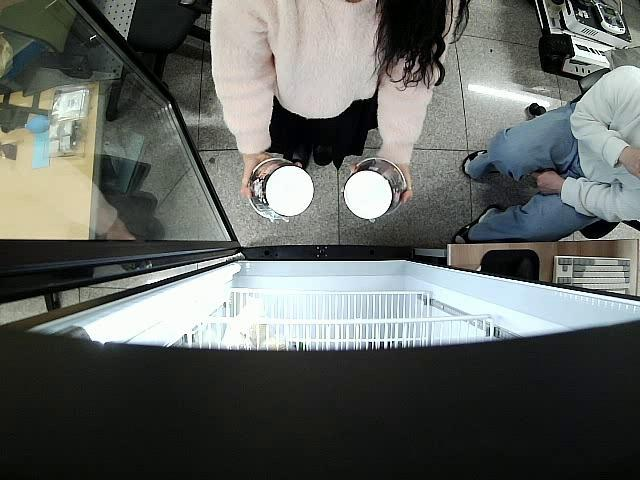07_buldak_L: (247, 160, 314, 220), (342, 160, 408, 220)
